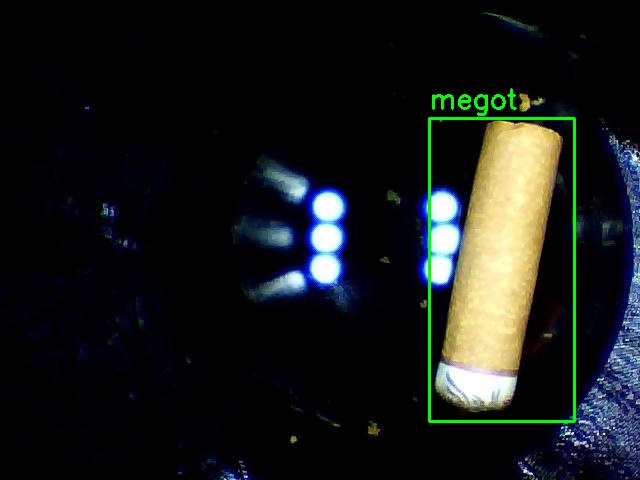megot: (429, 118, 574, 421)
